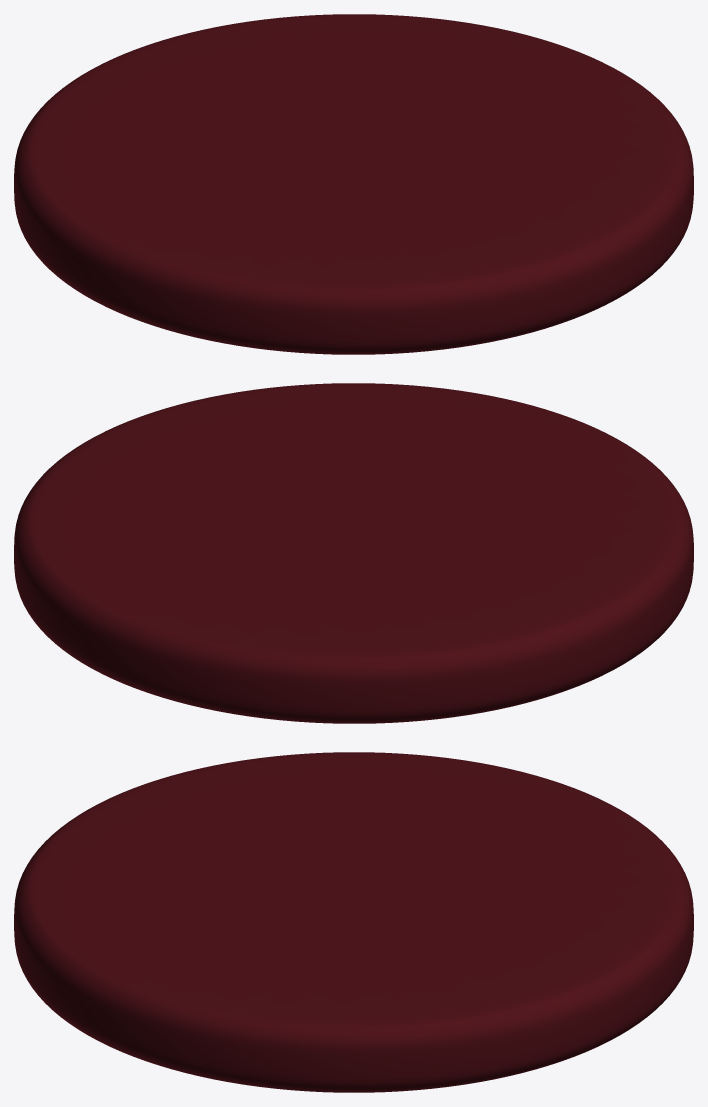
The model's file is CakeLayerCherry.glb.
3 renders of one model, top to bottom at view 1: azimuth 30°, elevation 25°; view 2: azimuth 150°, elevation 25°; view 3: azimuth 270°, elevation 25°, orthographic.
Visible parts, largest first — view 1: Cylinder; view 2: Cylinder; view 3: Cylinder.
Boxes of the visible parts, x1,y1,x2,y2 form: Cylinder: (14,14,693,354); Cylinder: (14,383,693,723); Cylinder: (14,752,693,1092).
Bounding box in the file's own units: 1.99 × 0.226 × 1.99.
